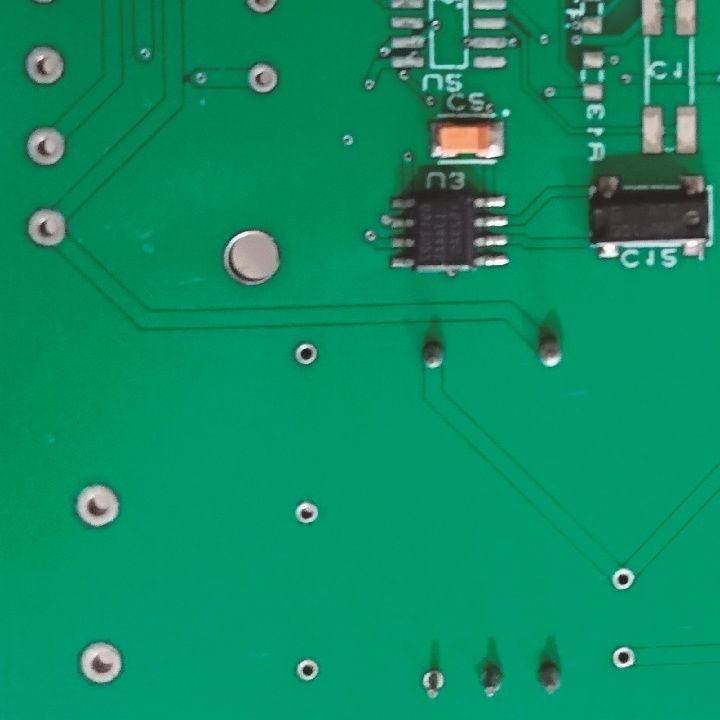F: (68, 482, 122, 532), (76, 639, 126, 687), (22, 43, 69, 89), (25, 203, 68, 250), (24, 125, 68, 169), (247, 58, 281, 98), (416, 665, 447, 703), (241, 1, 287, 22), (607, 562, 635, 593), (294, 340, 321, 369), (294, 655, 320, 683), (295, 500, 321, 527), (610, 646, 636, 673)
